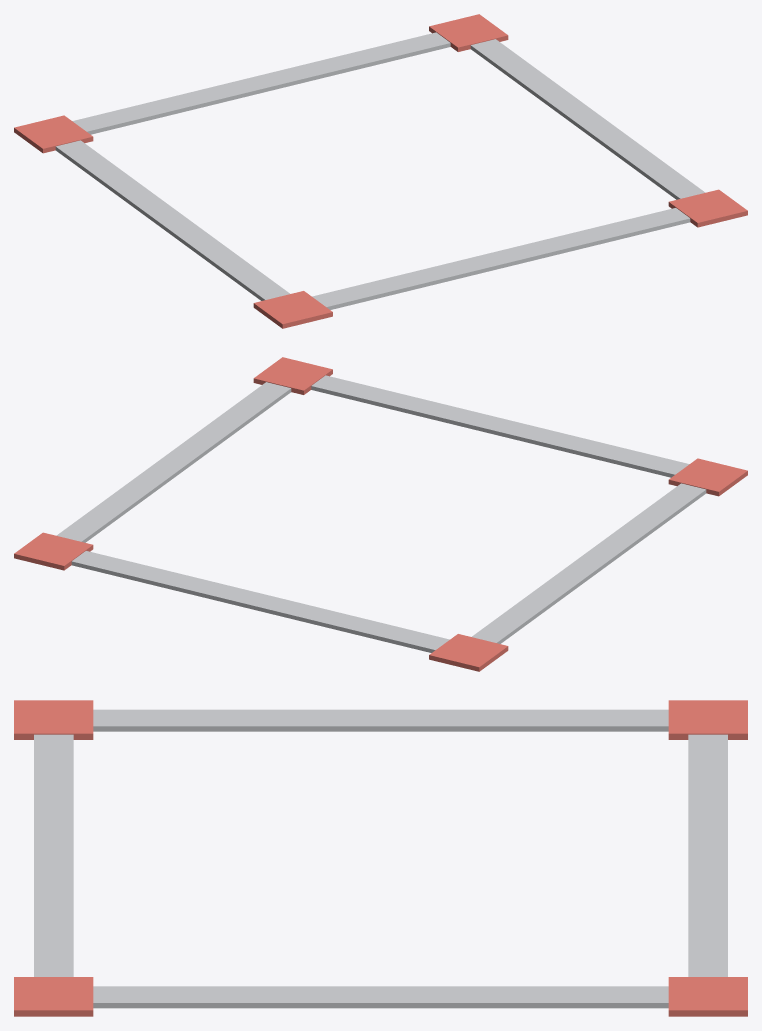
The model's file is dog-agility-and-training-field-pause-box-marking-9d05dfc7__35591.glb.
The picture shows the model from 3 angles, top to bottom: view 1: azimuth 30°, elevation 25°; view 2: azimuth 150°, elevation 25°; view 3: azimuth 270°, elevation 25°; orthographic projection. The views are drawn at different scales.
Parts seen in each view (by area): view 1: pause-box-marking-steel, pause-box-marking-poppy; view 2: pause-box-marking-steel, pause-box-marking-poppy; view 3: pause-box-marking-steel, pause-box-marking-poppy.
Boxes of the visible parts, x1,y1,x2,y2 form: pause-box-marking-steel: (55,32,705,309); pause-box-marking-poppy: (14,14,747,328); pause-box-marking-steel: (56,375,706,652); pause-box-marking-poppy: (14,357,747,671); pause-box-marking-steel: (34,709,727,1008); pause-box-marking-poppy: (14,700,747,1016).
Size of the model in its own units: 1.48 by 0.0139 by 1.48.
